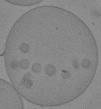small: (44, 64, 56, 77), (22, 74, 32, 86), (61, 69, 71, 79), (19, 43, 30, 52), (10, 60, 19, 70), (20, 58, 29, 68), (32, 63, 41, 73), (82, 58, 91, 68), (72, 59, 79, 69)
